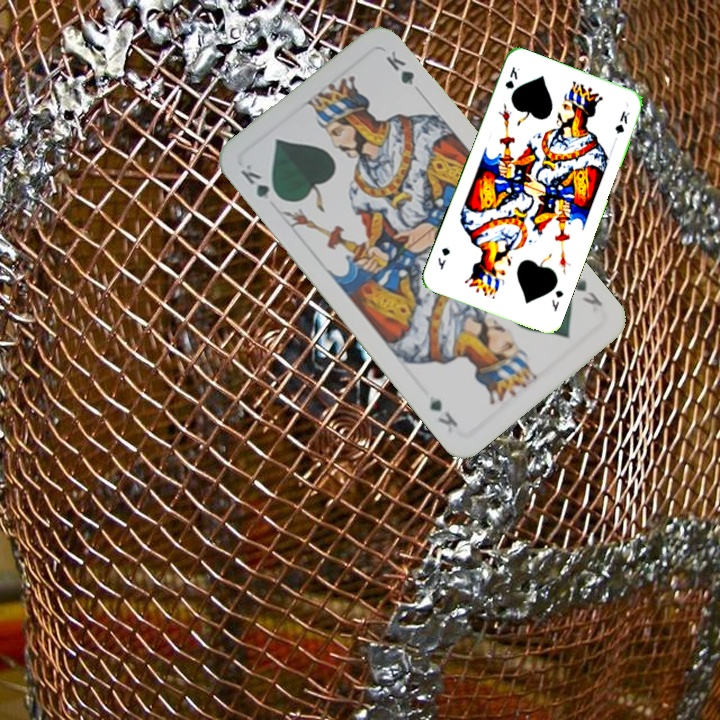GK: (236, 159, 285, 204), (570, 274, 605, 309), (501, 62, 523, 93), (548, 286, 566, 314)
